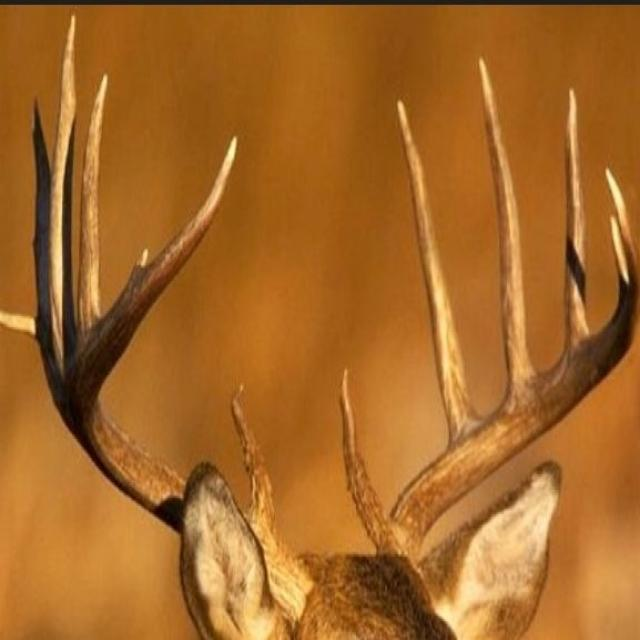E1: (0, 308, 35, 337)
E3: (610, 215, 629, 305), (127, 247, 149, 284)
L-F: (375, 164, 640, 567)
L-G1: (337, 367, 395, 552)
L-G2: (396, 96, 479, 440)
L-G3: (476, 54, 537, 390)
L-G4: (563, 86, 591, 346)
R-G1: (229, 384, 276, 529)
R-G3: (76, 70, 110, 353)
